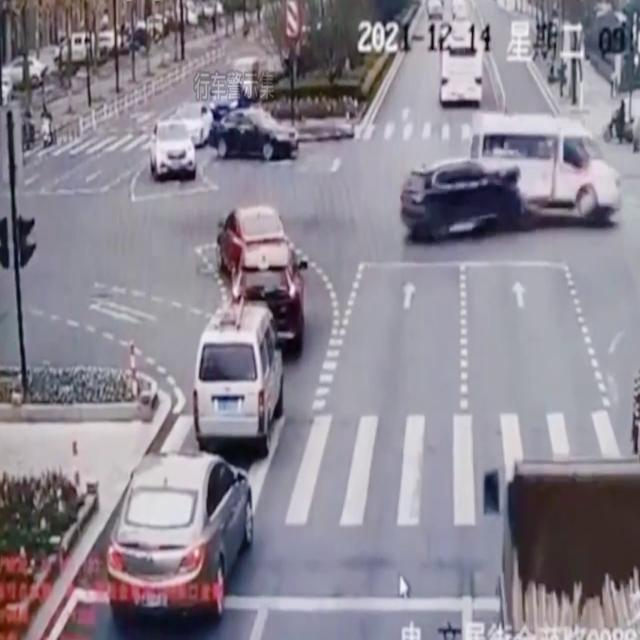multiple_accident: (433, 113, 640, 273)
normal: (123, 187, 366, 603), (160, 83, 320, 190)
